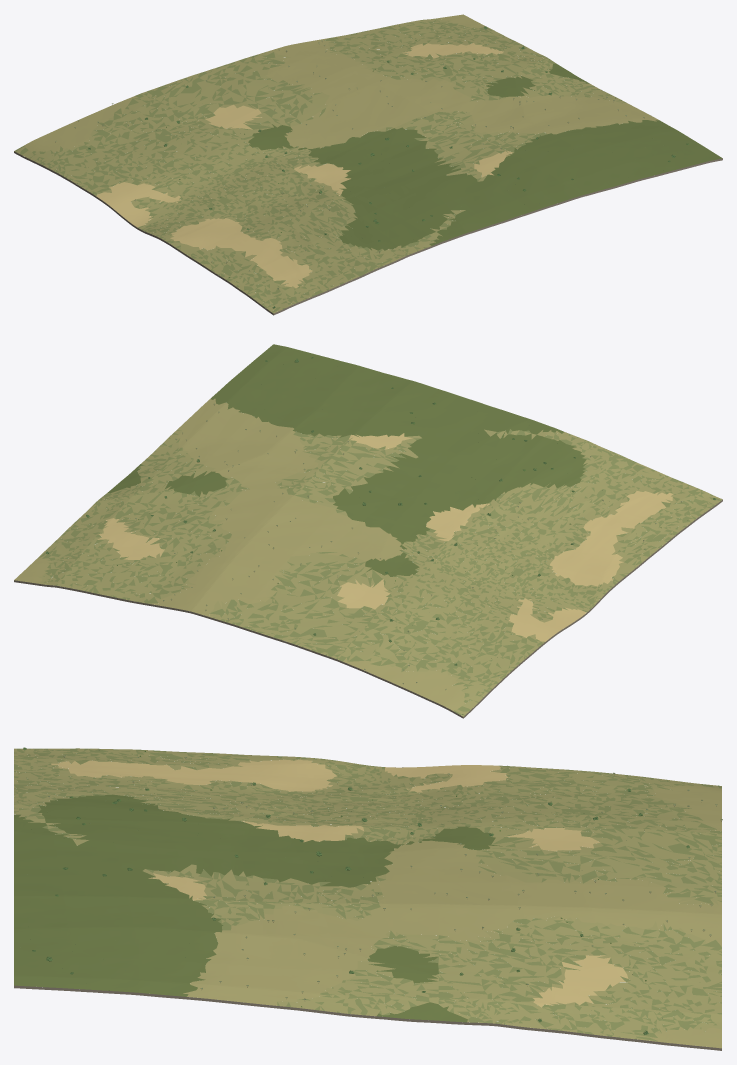
Rendered from parca_+4_+1-yakin.glb.
3 views of the same model, one above another, from view 1: azimuth 30°, elevation 25°; view 2: azimuth 150°, elevation 25°; view 3: azimuth 270°, elevation 25° (orthographic). The views are drawn at different scales.
Parts seen in each view (by area): view 1: parca_+4_+1_arazi, parca_+4_+1_bitkiler; view 2: parca_+4_+1_arazi, parca_+4_+1_bitkiler; view 3: parca_+4_+1_arazi, parca_+4_+1_bitkiler.
Part boxes in pixels (x1,y1,x2,y2): parca_+4_+1_arazi: [14, 14, 722, 315]; parca_+4_+1_bitkiler: [16, 26, 688, 308]; parca_+4_+1_arazi: [14, 344, 722, 718]; parca_+4_+1_bitkiler: [46, 357, 715, 714]; parca_+4_+1_arazi: [14, 748, 721, 1050]; parca_+4_+1_bitkiler: [20, 747, 722, 1034].
Size of the model in its own units: 1000 by 167 by 1002.
